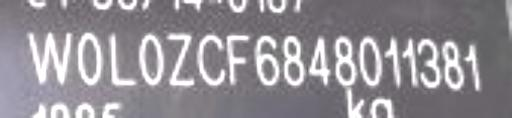letter: (18, 27, 72, 86), (194, 30, 230, 88), (166, 27, 196, 89), (72, 27, 102, 86), (354, 32, 384, 91), (278, 32, 308, 91), (106, 30, 136, 88), (224, 30, 254, 88), (303, 33, 333, 89), (136, 33, 166, 89), (251, 33, 281, 89), (438, 32, 466, 91), (381, 32, 405, 91), (396, 30, 420, 88), (333, 33, 357, 89), (418, 36, 442, 92), (464, 36, 484, 92)
